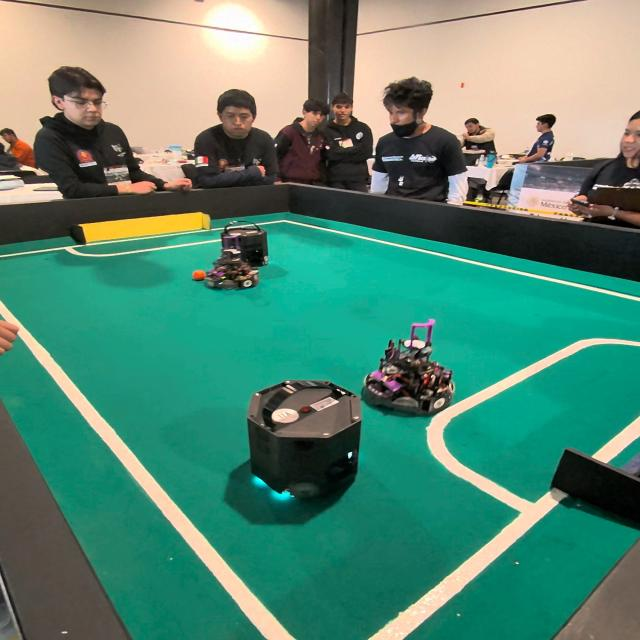Robot: (243, 366, 364, 526), (366, 323, 456, 421), (216, 215, 268, 263), (215, 243, 262, 293)
pelota: (190, 270, 204, 282)
